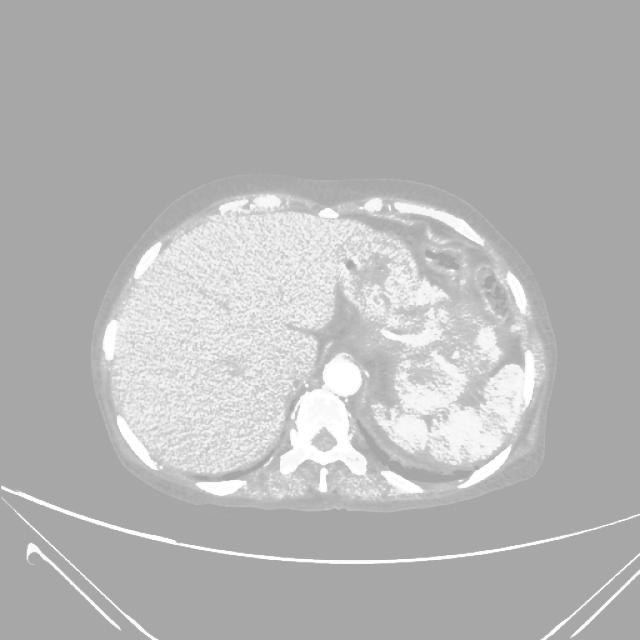TUMOR: (341, 252, 580, 466)
